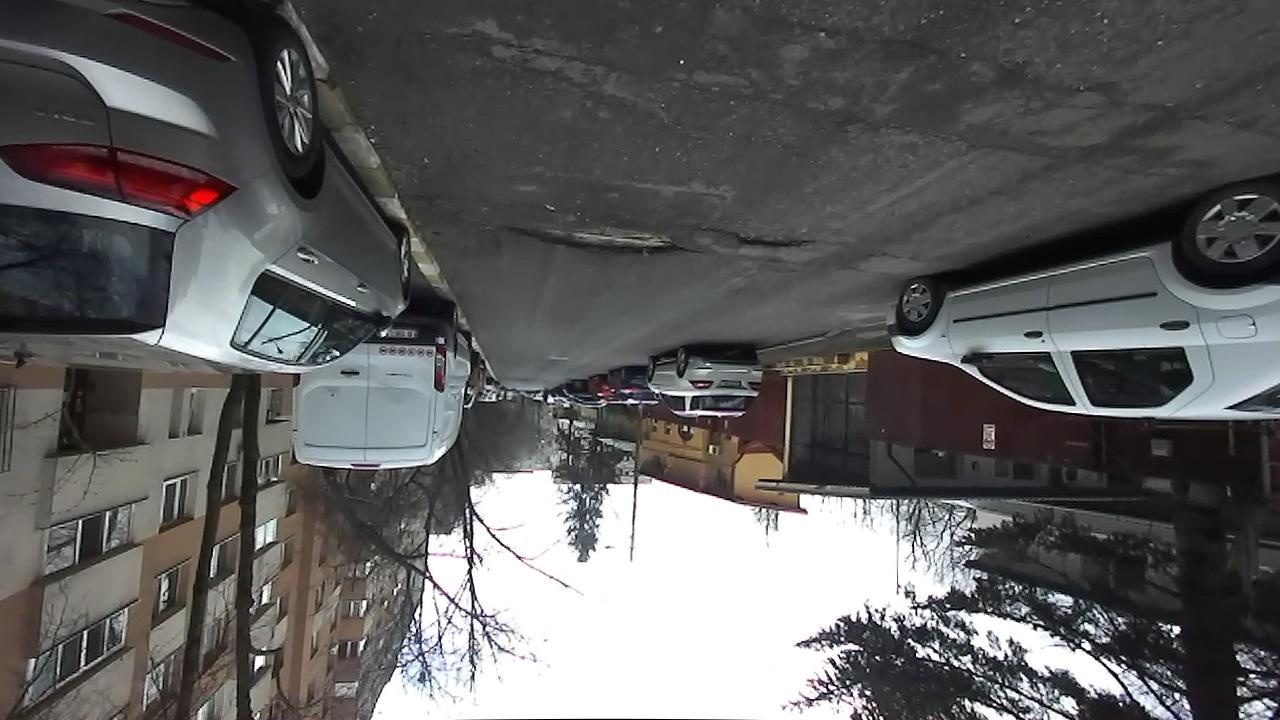pothole: (502, 220, 694, 260), (706, 225, 817, 253)
